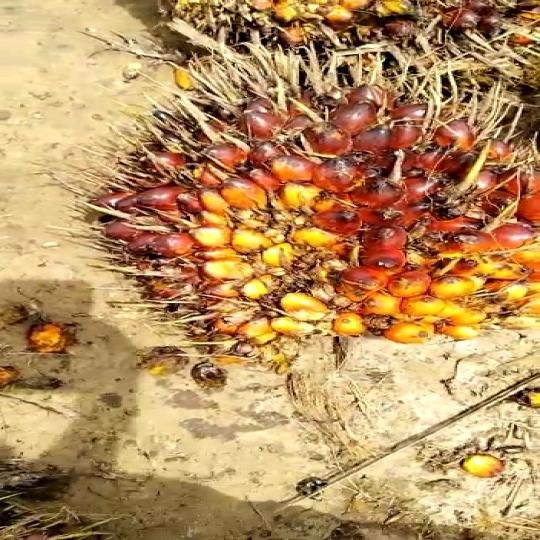masak: (102, 61, 540, 394)
